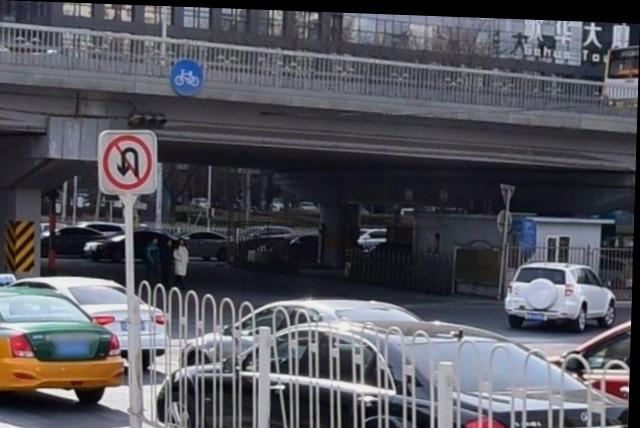not_u_turn_left: (104, 134, 156, 188)
